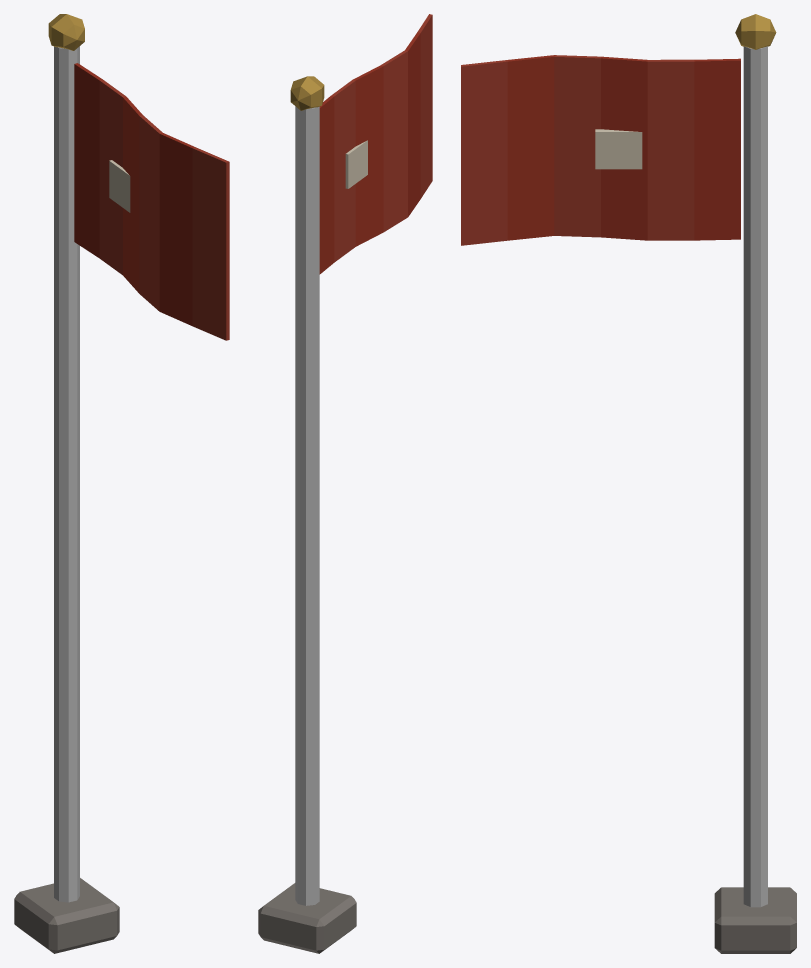
The model's file is Flag.glb.
3 views of the same model, side by side, from view 1: azimuth 30°, elevation 25°; view 2: azimuth 150°, elevation 25°; view 3: azimuth 270°, elevation 25° (orthographic). The views are drawn at different scales.
Visible parts, largest first — view 1: Flag, Body; view 2: Body, Flag; view 3: Flag, Body.
Boxes of the visible parts, x1=… form: Flag: x1=74, y1=63, x2=229, y2=340; Body: x1=14, y1=14, x2=119, y2=953; Body: x1=258, y1=76, x2=356, y2=953; Flag: x1=319, y1=14, x2=432, y2=274; Flag: x1=461, y1=55, x2=740, y2=245; Body: x1=714, y1=14, x2=796, y2=953.
Size of what is drawn, in the model's own units: 1 by 12.4 by 4.08.
